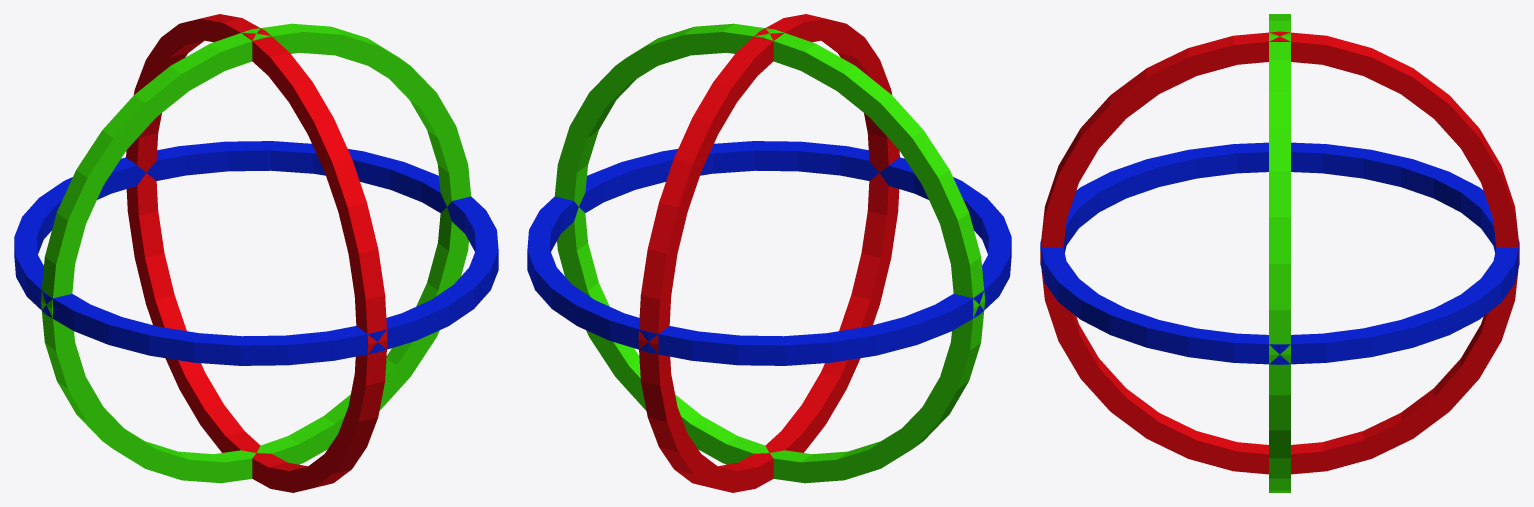
Rendered from GizmoRotation.fbx.
3 renders of one model, left to right at view 1: azimuth 30°, elevation 25°; view 2: azimuth 150°, elevation 25°; view 3: azimuth 270°, elevation 25°, orthographic.
Parts seen in each view (by area): view 1: YAxis, XAxis, ZAxis; view 2: YAxis, XAxis, ZAxis; view 3: XAxis, ZAxis, YAxis.
Part boxes in pixels (x1,y1,x2,y2): YAxis: (40, 23, 471, 483); XAxis: (126, 14, 387, 492); ZAxis: (14, 141, 498, 365); YAxis: (554, 23, 985, 483); XAxis: (638, 14, 899, 492); ZAxis: (527, 141, 1011, 365); XAxis: (1040, 31, 1519, 474); ZAxis: (1040, 142, 1519, 364); YAxis: (1269, 14, 1290, 492).
Bounding box in the file's own units: 200 × 200 × 200.
